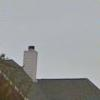Chimney: (20, 36, 40, 81)
